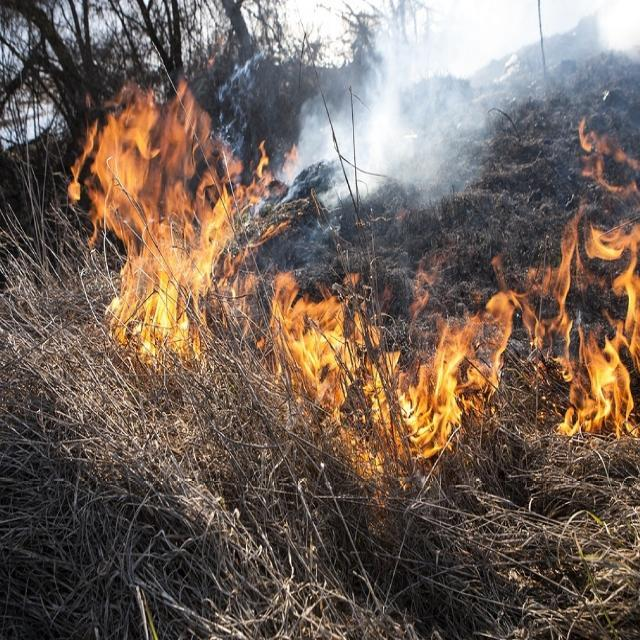Fire: (278, 254, 636, 496), (68, 66, 315, 393)
Smoke: (280, 1, 626, 213)
